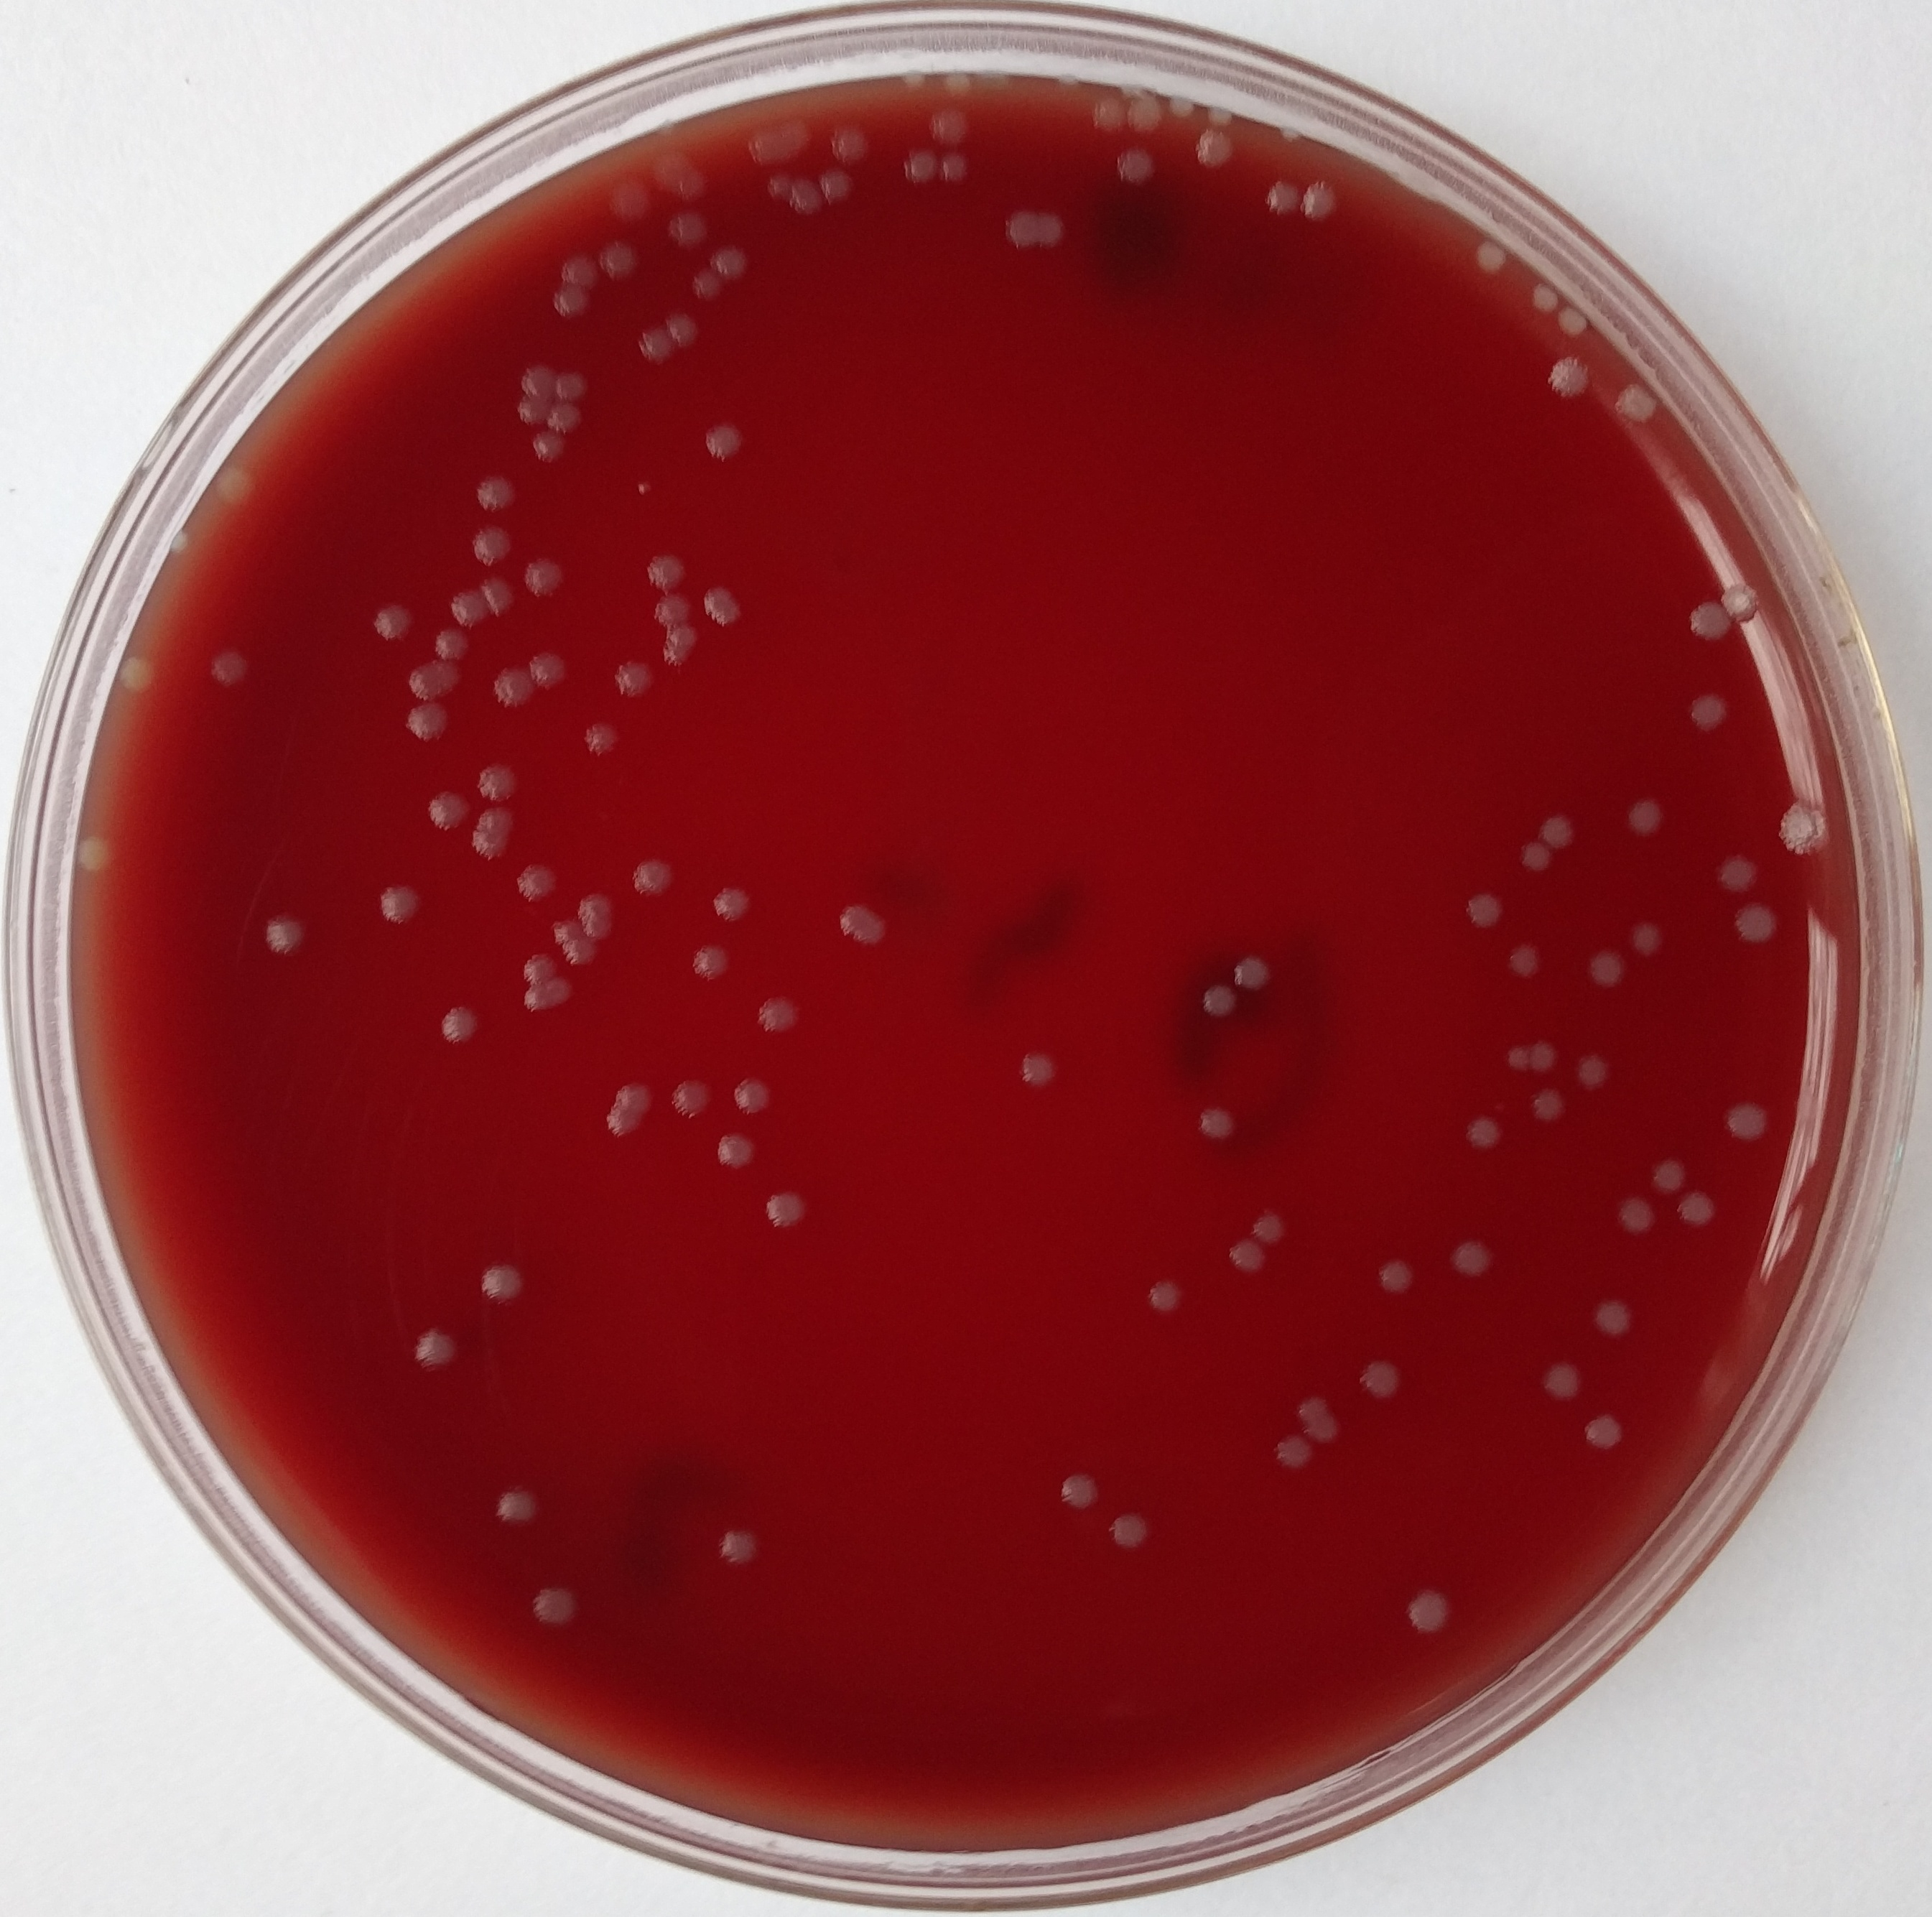sp15: (523, 1575, 588, 1638), (402, 1322, 463, 1383), (1725, 894, 1786, 953), (1399, 1576, 1456, 1640), (470, 1253, 532, 1311), (739, 119, 811, 167), (370, 876, 430, 930), (1355, 1350, 1407, 1411), (1709, 843, 1767, 897), (835, 899, 893, 953), (463, 802, 516, 862), (598, 176, 662, 225), (1572, 1401, 1628, 1455), (493, 1475, 546, 1533), (1779, 795, 1830, 855), (709, 1522, 772, 1569), (400, 657, 465, 702), (1541, 349, 1595, 404), (488, 664, 542, 718), (625, 853, 681, 906), (1607, 1190, 1662, 1243), (261, 909, 318, 960), (367, 597, 419, 650), (1683, 685, 1734, 739), (760, 1183, 814, 1234), (1370, 1248, 1421, 1303), (753, 992, 807, 1043), (211, 462, 265, 513), (423, 786, 479, 836), (605, 650, 655, 706), (823, 119, 881, 167), (656, 205, 714, 253), (628, 327, 681, 377), (1679, 595, 1732, 646), (1535, 1355, 1588, 1406), (663, 1071, 712, 1125), (1221, 1234, 1277, 1282), (705, 878, 762, 925), (697, 576, 744, 632), (1441, 1238, 1500, 1282), (697, 421, 749, 470), (1014, 1043, 1063, 1095), (1569, 1050, 1618, 1102), (923, 107, 977, 154), (1191, 121, 1239, 176), (205, 648, 261, 693), (469, 469, 519, 518), (1462, 885, 1513, 934), (509, 857, 560, 906), (593, 237, 646, 284), (1525, 1080, 1572, 1132), (1053, 1466, 1106, 1513), (521, 646, 574, 693), (637, 546, 690, 593), (1595, 1289, 1641, 1343), (402, 699, 456, 744), (516, 976, 577, 1016), (435, 1001, 483, 1052), (470, 758, 521, 806), (895, 139, 939, 193), (1718, 572, 1762, 627), (1263, 1427, 1318, 1471), (1627, 793, 1674, 843), (1497, 936, 1544, 985), (809, 158, 860, 204), (686, 941, 737, 987), (521, 549, 567, 600), (1230, 946, 1274, 999), (1195, 976, 1248, 1020), (1258, 174, 1306, 221), (1644, 1152, 1692, 1199), (728, 1073, 776, 1120), (72, 830, 119, 878), (1583, 946, 1628, 995), (1190, 1101, 1239, 1146), (648, 590, 697, 635), (1300, 172, 1339, 230), (1109, 146, 1160, 190), (579, 718, 630, 762), (1106, 1506, 1153, 1552), (469, 520, 516, 565), (1142, 1276, 1191, 1320), (477, 571, 521, 620), (1611, 376, 1655, 423), (1513, 834, 1560, 878), (1723, 1095, 1767, 1143), (1671, 1185, 1718, 1229), (705, 244, 756, 284), (712, 1131, 763, 1171), (663, 620, 700, 674), (1458, 1111, 1504, 1155), (1088, 95, 1130, 142), (546, 277, 595, 318), (1627, 909, 1667, 958), (542, 395, 586, 439), (1000, 202, 1037, 253), (1128, 91, 1165, 142), (784, 176, 826, 219), (518, 360, 560, 404), (579, 890, 614, 943), (1537, 808, 1578, 853), (612, 1080, 660, 1118), (116, 650, 165, 686), (1469, 235, 1511, 277), (514, 391, 558, 432), (1248, 1206, 1292, 1246), (646, 151, 691, 190), (555, 255, 602, 291), (932, 146, 972, 188), (600, 1106, 642, 1146), (433, 621, 474, 664), (937, 67, 981, 105), (663, 309, 702, 353), (1299, 1408, 1346, 1443), (1030, 212, 1070, 253), (1525, 277, 1563, 320), (1555, 300, 1593, 342), (1521, 1039, 1560, 1081), (449, 588, 488, 630), (547, 913, 593, 948), (551, 369, 590, 409), (516, 951, 558, 988), (562, 934, 600, 973), (1290, 1383, 1327, 1424), (530, 427, 569, 463), (756, 170, 798, 202), (686, 267, 721, 304), (1500, 1039, 1537, 1073), (1169, 90, 1199, 123), (898, 63, 930, 93), (1207, 104, 1237, 135), (681, 167, 711, 198), (1274, 119, 1309, 146), (167, 528, 198, 556), (630, 474, 658, 500)
